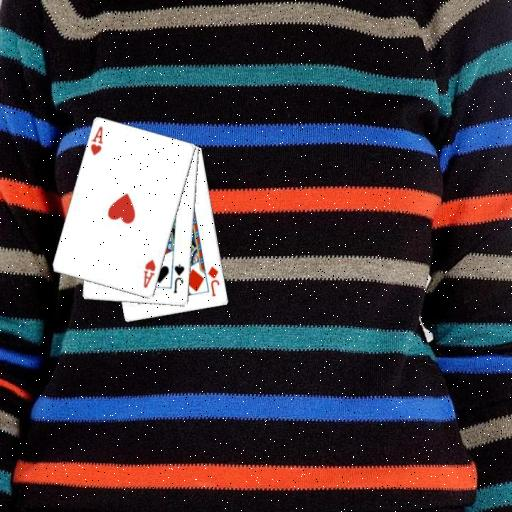AH: (88, 123, 105, 157), (140, 257, 157, 289)
JD: (205, 263, 221, 298)
JS: (171, 261, 187, 295)
